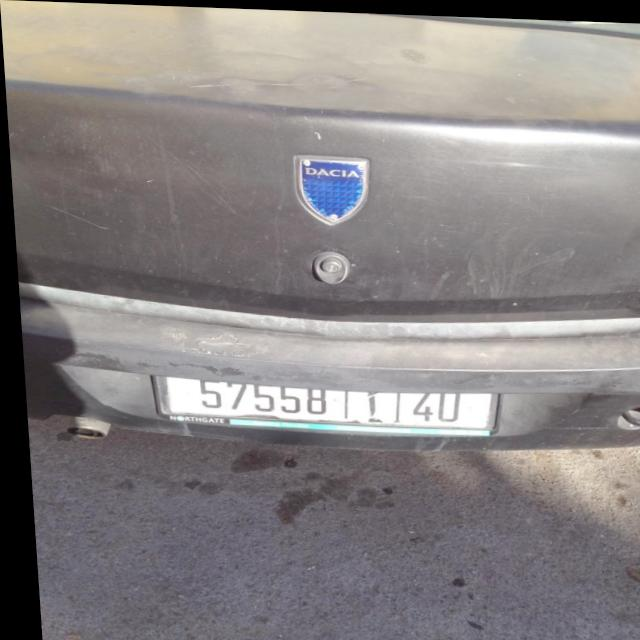License-Plate: (153, 375, 492, 429)
